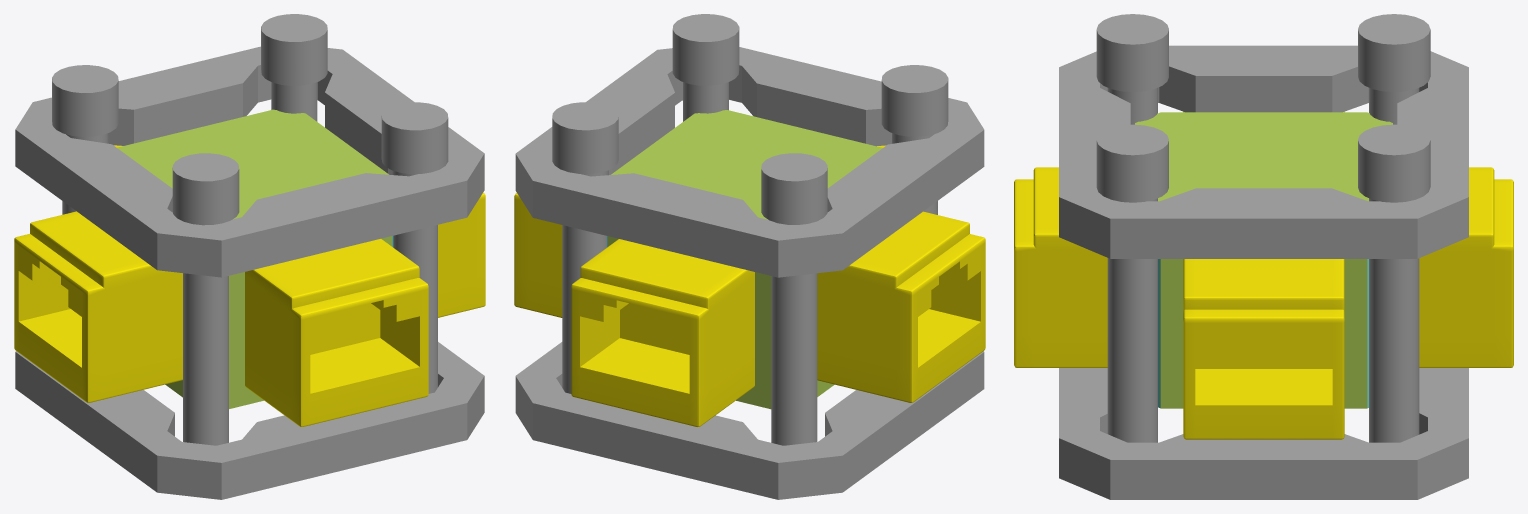
File: UnderworldTower.fbx
3 views of the same model, side by side, from view 1: azimuth 30°, elevation 25°; view 2: azimuth 150°, elevation 25°; view 3: azimuth 270°, elevation 25° (orthographic). The views are drawn at different scales.
Visible parts, largest first — view 1: pCube152, CoreCenter6, pCube148, CoreCenter5, pCube153, Standoff6, Standoff7, Standoff4, Standoff5, CoreCenter; view 2: pCube152, CoreCenter7, pCube148, CoreCenter5, pCube153, Standoff5, Standoff4, Standoff7, CoreCenter, Standoff6; view 3: pCube152, pCube148, CoreCenter, pCube153, CoreCenter7, CoreCenter6, Standoff4, Standoff7, Standoff5, Standoff6.
Part boxes in pixels (left/top/right/bottom): pCube152: left=15, top=46, right=484, bottom=277; CoreCenter6: left=245, top=239, right=428, bottom=426; pCube148: left=15, top=342, right=484, bottom=499; CoreCenter5: left=14, top=211, right=182, bottom=402; pCube153: left=117, top=109, right=393, bottom=408; Standoff6: left=172, top=153, right=239, bottom=445; Standoff7: left=381, top=102, right=448, bottom=393; Standoff4: left=261, top=14, right=327, bottom=121; Standoff5: left=52, top=65, right=118, bottom=214; CoreCenter: left=438, top=192, right=485, bottom=317; pCube152: left=515, top=47, right=984, bottom=277; CoreCenter7: left=571, top=239, right=754, bottom=427; pCube148: left=515, top=342, right=984, bottom=499; CoreCenter5: left=817, top=211, right=985, bottom=402; pCube153: left=607, top=110, right=882, bottom=409; Standoff5: left=761, top=153, right=827, bottom=445; Standoff4: left=552, top=102, right=618, bottom=393; Standoff7: left=672, top=14, right=739, bottom=121; CoreCenter: left=514, top=193, right=562, bottom=317; Standoff6: left=881, top=65, right=948, bottom=214; pCube152: left=1059, top=45, right=1468, bottom=258; pCube148: left=1059, top=368, right=1468, bottom=499; CoreCenter: left=1183, top=259, right=1344, bottom=439; pCube153: left=1135, top=112, right=1392, bottom=408; CoreCenter7: left=1419, top=167, right=1513, bottom=367; CoreCenter6: left=1014, top=167, right=1107, bottom=367; Standoff4: left=1358, top=124, right=1430, bottom=442; Standoff7: left=1096, top=124, right=1168, bottom=442; Standoff5: left=1358, top=14, right=1430, bottom=124; Standoff6: left=1096, top=14, right=1168, bottom=124.
Size of the model in its own units: 12.2 by 8.86 by 12.2.
